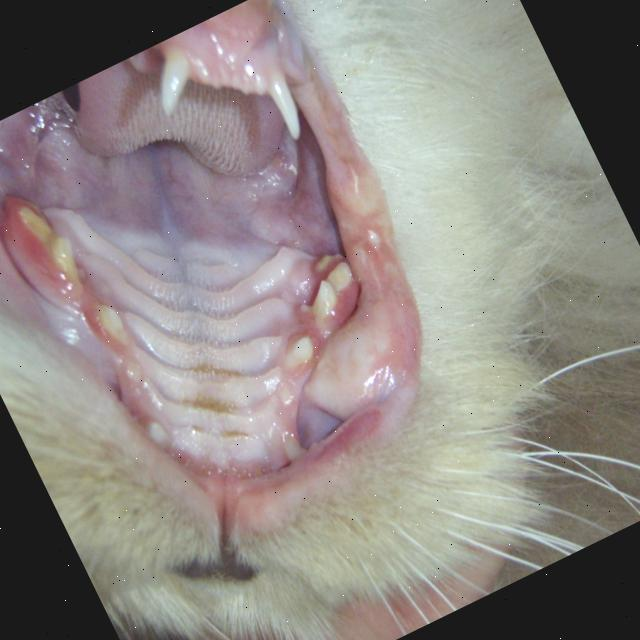cat-ulcer: (319, 173, 417, 304), (314, 314, 420, 407)
